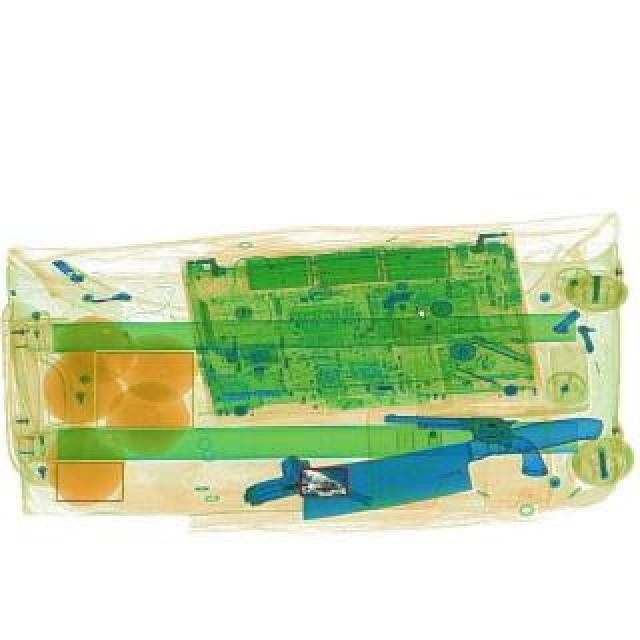gun: (242, 448, 378, 552), (384, 414, 552, 480)
knife: (294, 412, 612, 524)
